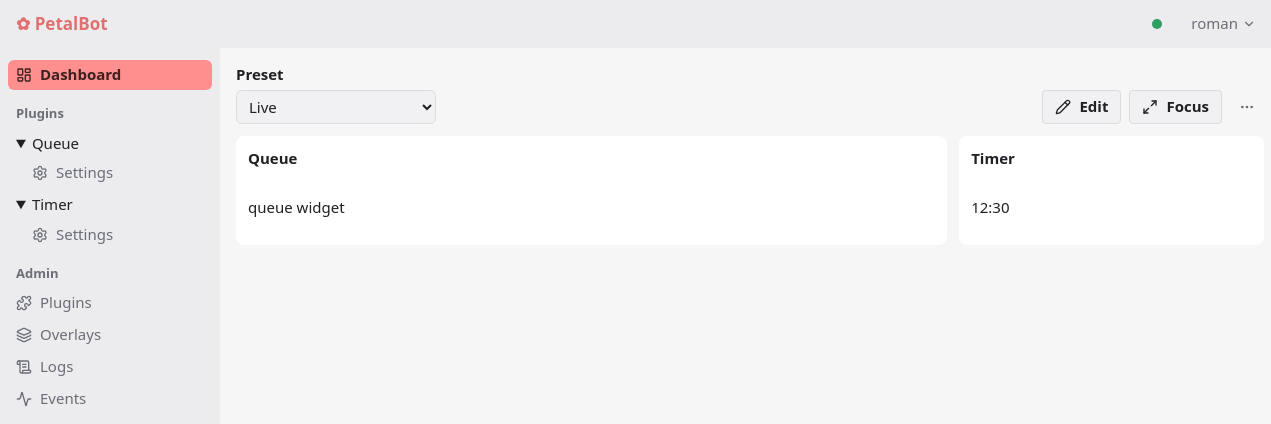
Test: dashboard › switches presets and remembers the choice
Expected: the text "queue widget" is shown, 248,196 -> 345,216
Select "Chill" in the dropdown labelled "Preset". click: (336, 107)
box: 236,90 -> 436,124
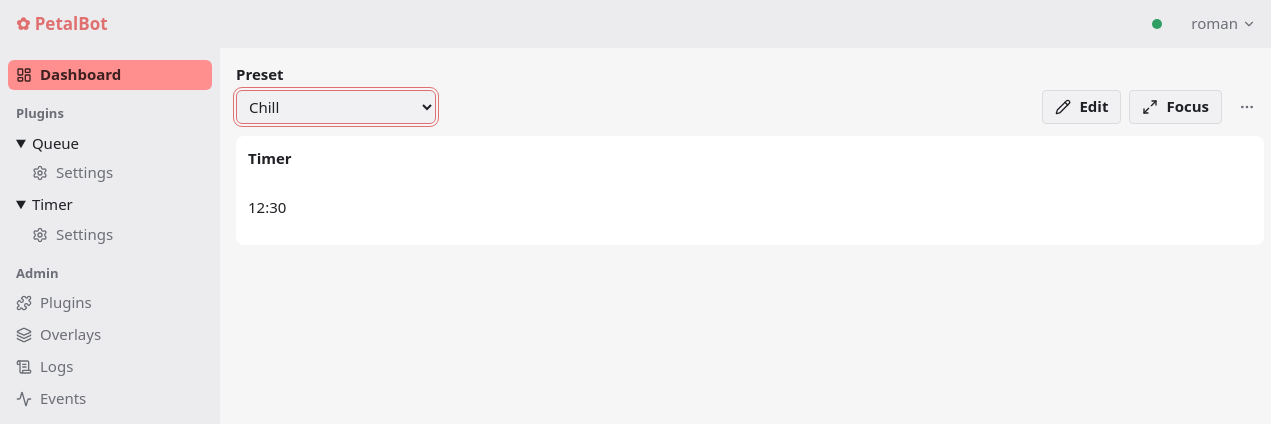
Expected: the text "queue widget" is gone
